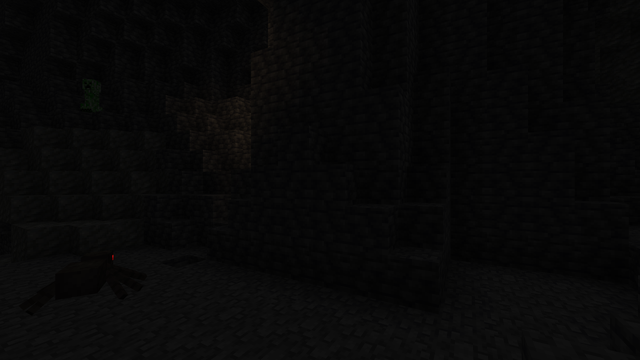araignees: (38, 244, 141, 315)
creepers: (81, 76, 101, 113)
